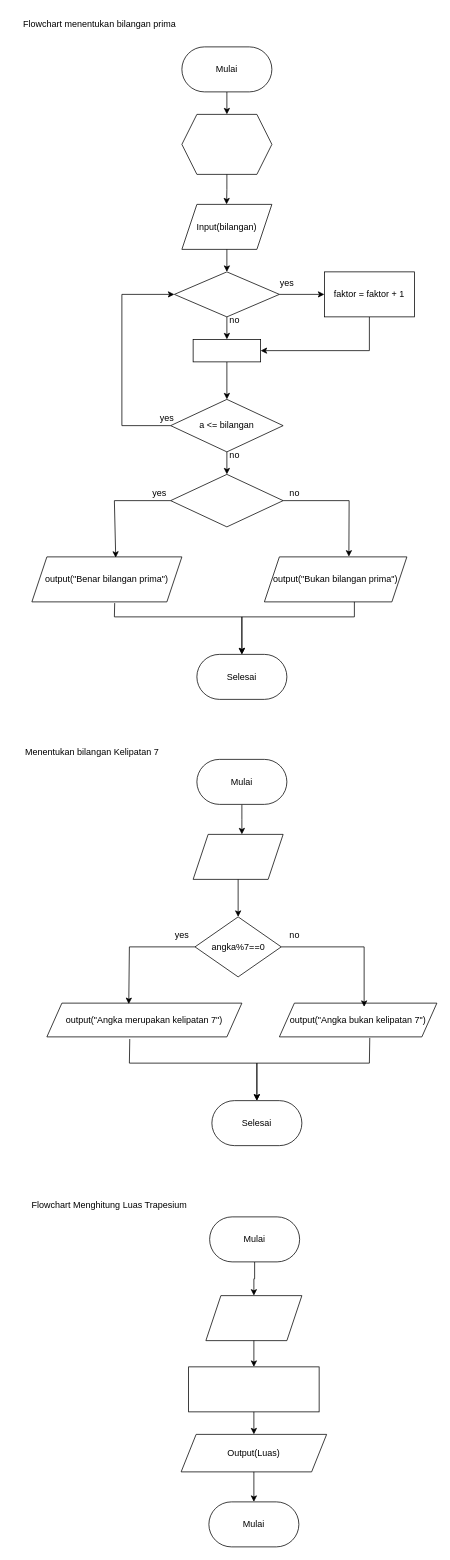
This 450x1560 diagram has some shape labels left out. Each missing label, with the centre of its shape:
a=a+1: [226,350]
bilangan%a=0: [226,294]
faktor = 2: [226,500]
Input(angka): [237,856]
Input(angka) Input(alas) Input(atas) Input(tinggi): [253,1318]
int faktor = 1 int bilangan int a=2: [226,144]
Luas = (alas+atas)/2*tinggi: [253,1389]
